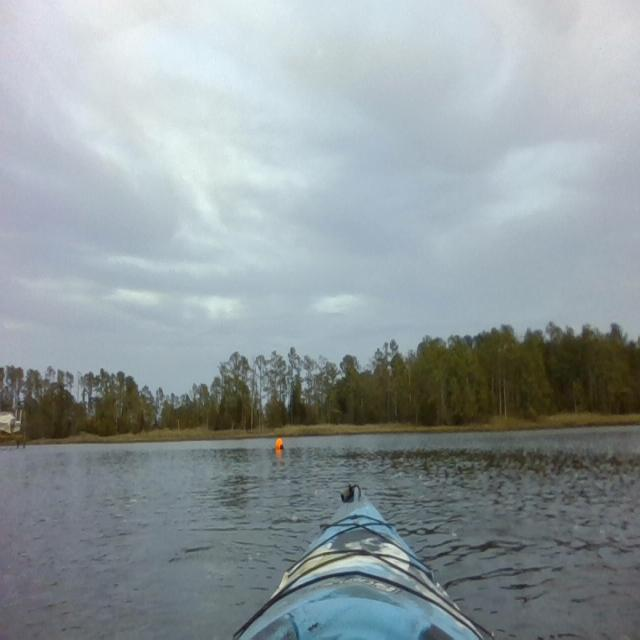Buoy: (274, 435, 284, 453)
